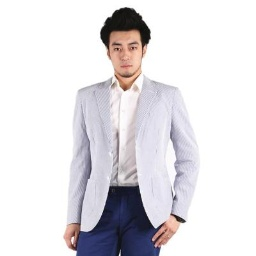face: (100, 6, 151, 80)
